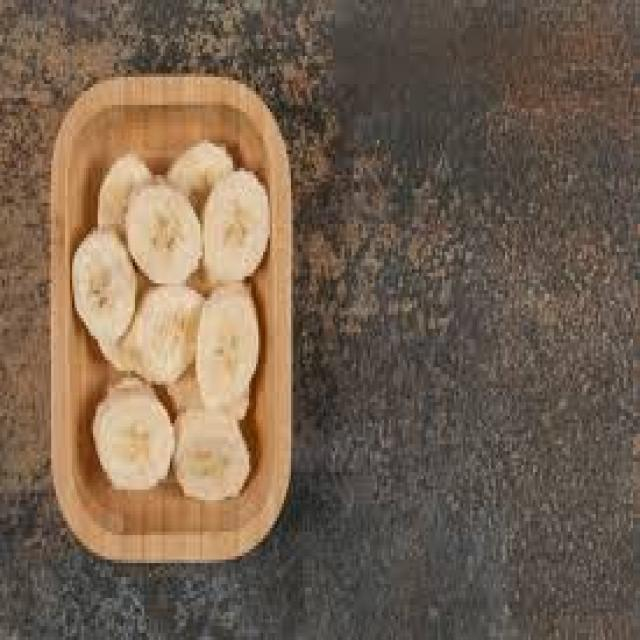Banana: (74, 144, 270, 511)
